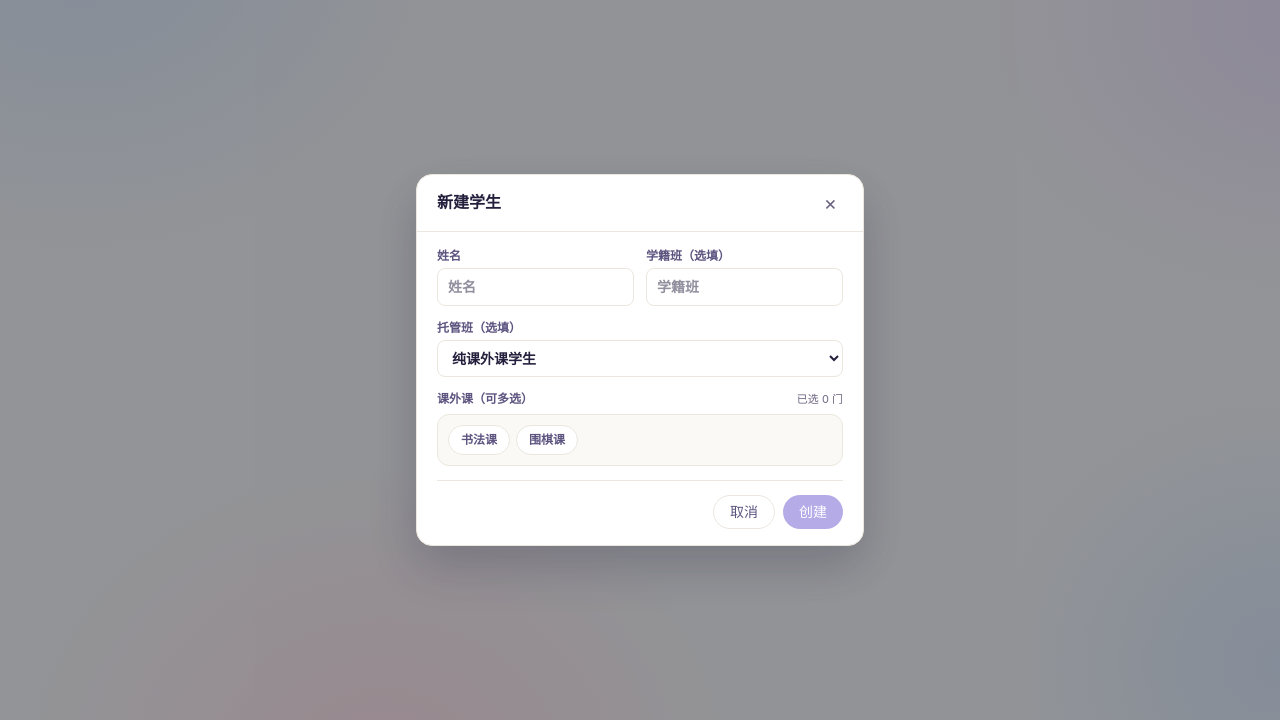
Scenario: CreateStudentModal › disables the create button while the submission is in flight
Type "小明" into the field labelled "姓名" at [536, 287], box x1=437 y1=268 x2=634 y2=306
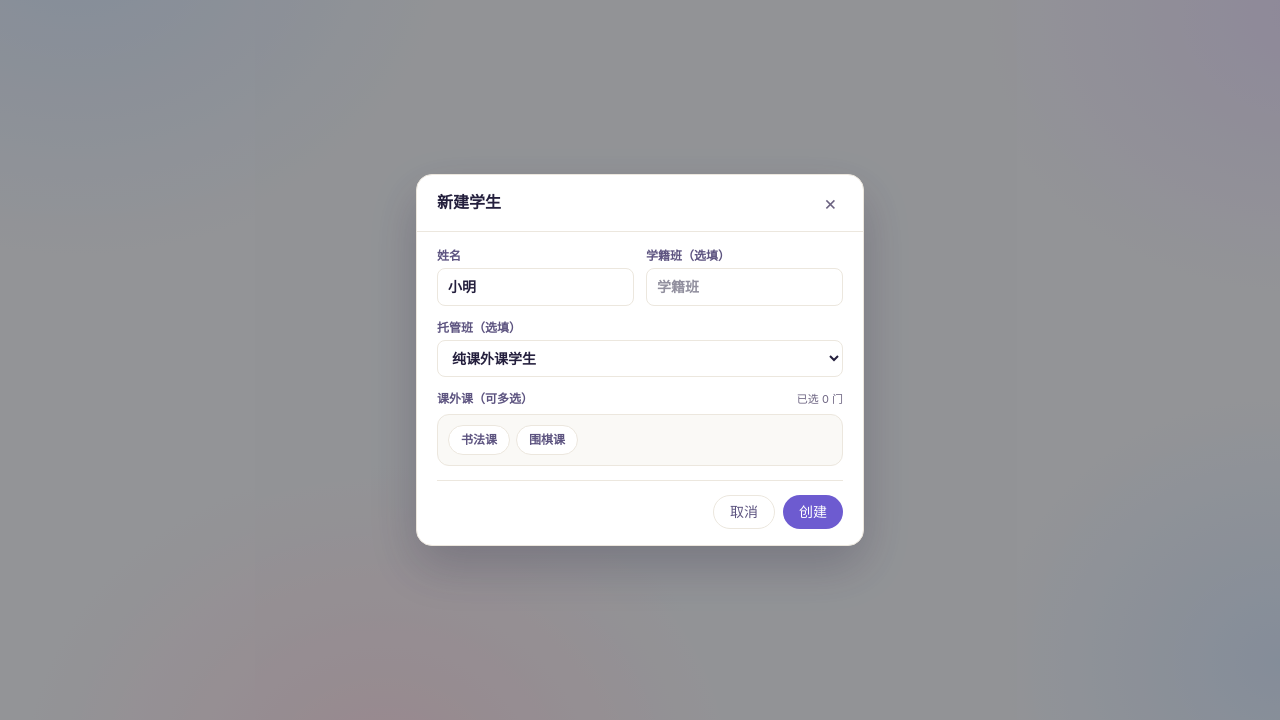
Click the button "创建" at [813, 512], box x1=783 y1=495 x2=843 y2=529
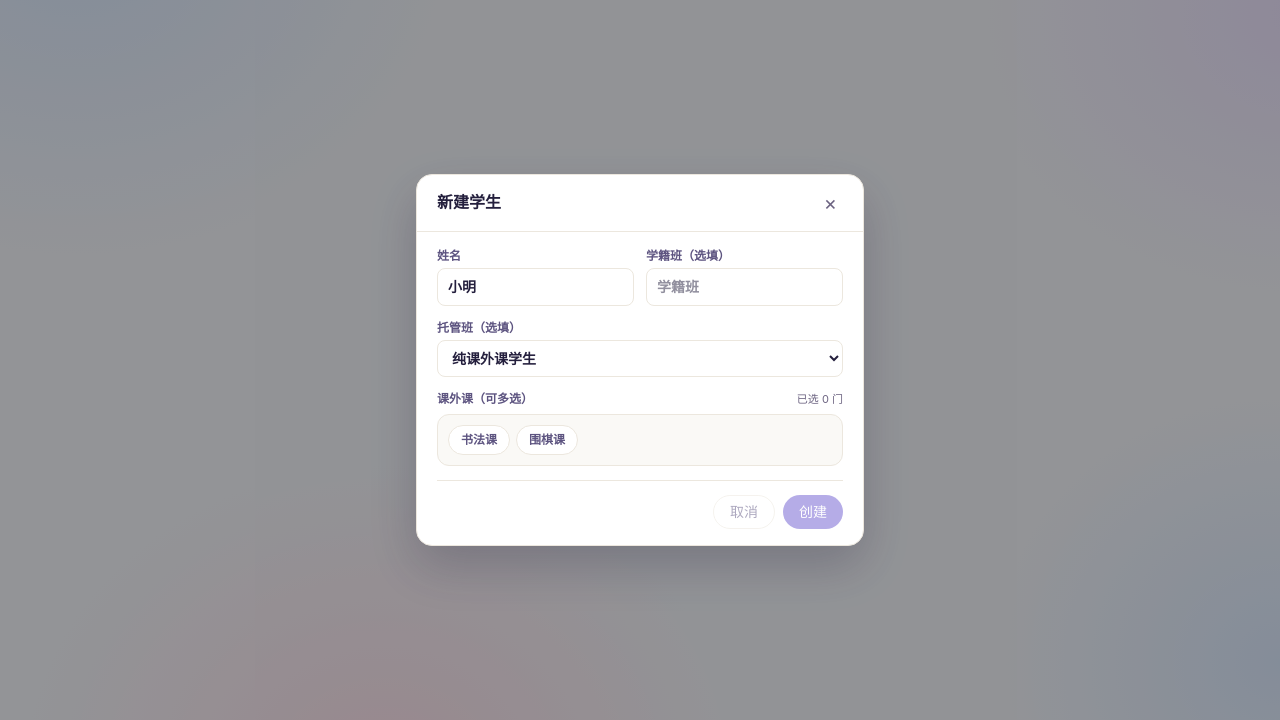
Expected: the button "创建" is disabled, x1=783 y1=495 x2=843 y2=529
